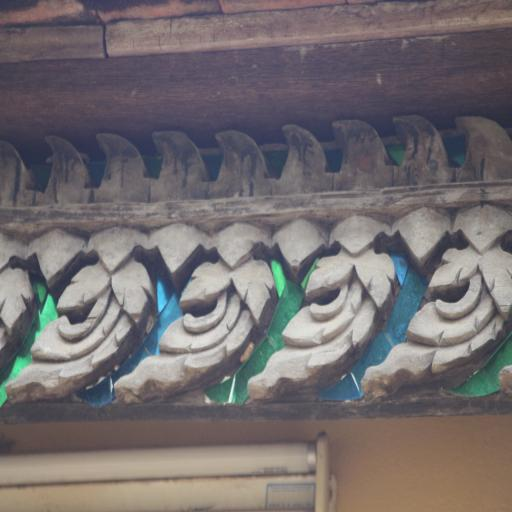la: (377, 201, 512, 410), (132, 226, 282, 404), (17, 220, 162, 404), (248, 226, 392, 404), (383, 116, 457, 198), (209, 126, 273, 206), (277, 122, 336, 200), (149, 130, 212, 198), (339, 120, 390, 201), (93, 134, 153, 201), (458, 111, 510, 181), (42, 130, 86, 206), (0, 138, 37, 205)
